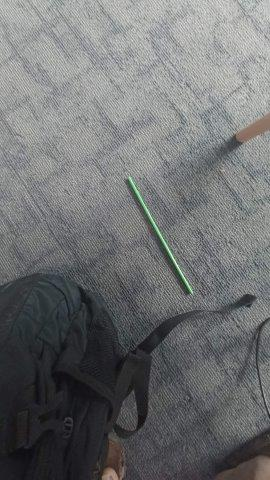sedotan: (127, 177, 193, 294)
